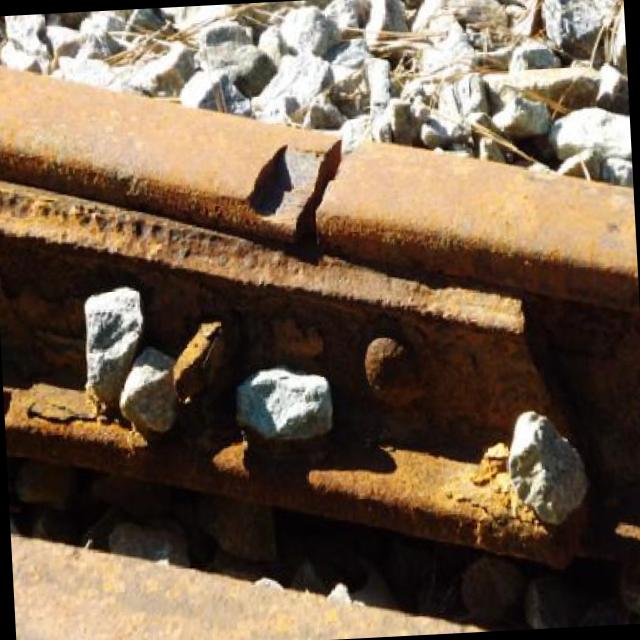defective: (44, 30, 639, 602)
